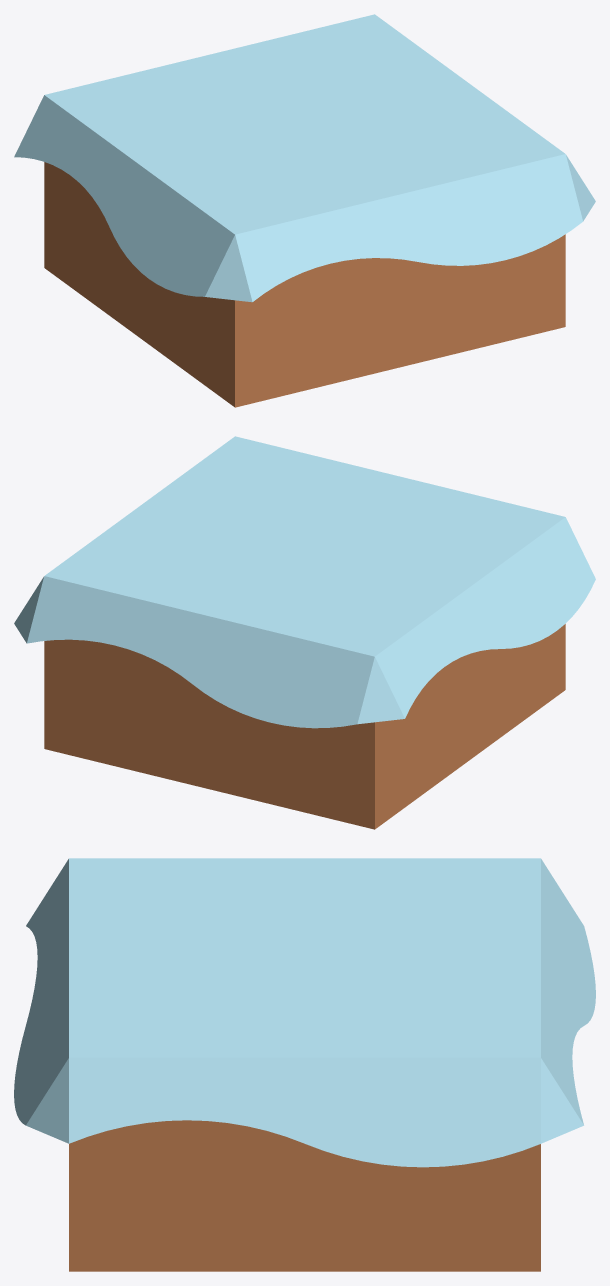
Rendered from blockSnowHalf.fbx.
3 renders of one model, top to bottom at view 1: azimuth 30°, elevation 25°; view 2: azimuth 150°, elevation 25°; view 3: azimuth 270°, elevation 25°, orthographic. The views are drawn at different scales.
Visible parts, largest first — view 1: blockSnowHalf; view 2: blockSnowHalf; view 3: blockSnowHalf.
Part boxes in pixels (x1,y1,x2,y2): blockSnowHalf: [14, 14, 595, 407]; blockSnowHalf: [14, 436, 595, 829]; blockSnowHalf: [14, 858, 595, 1271].
Size of the model in its own units: 12.33 by 5 by 12.33.
